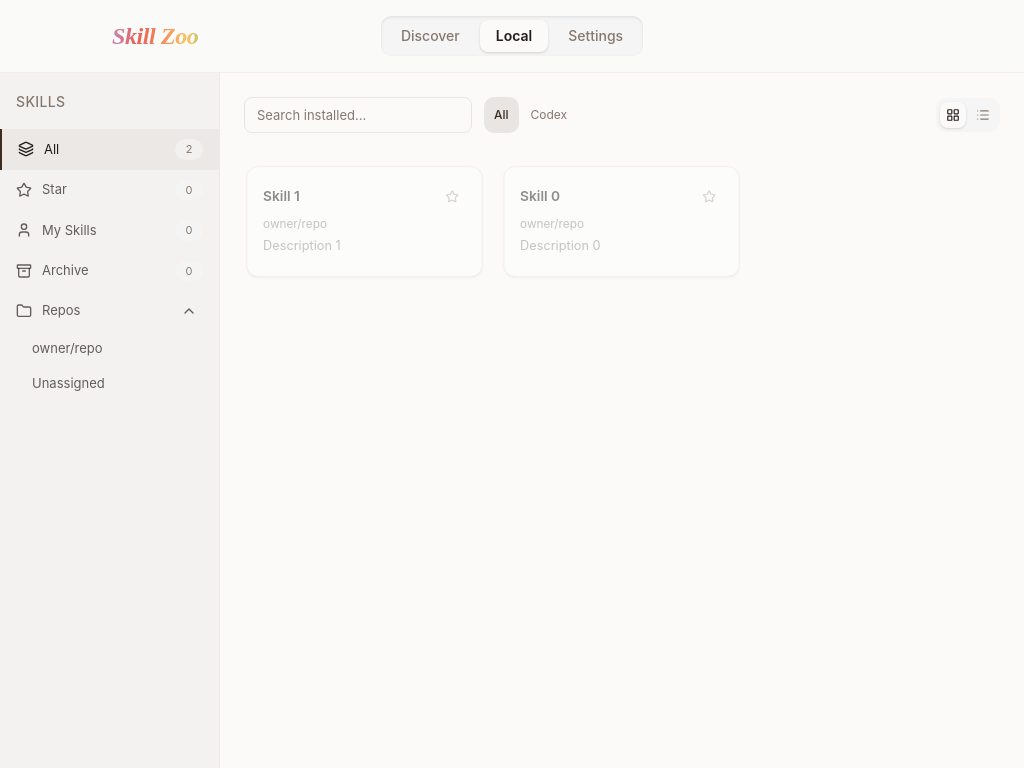
it: App local skill detail navigation › does not show a different skill as updating while an earlier update is pending
The image size is (1024, 768).
Click the button "Skill 0" at (540, 196), box [520, 188, 560, 205]
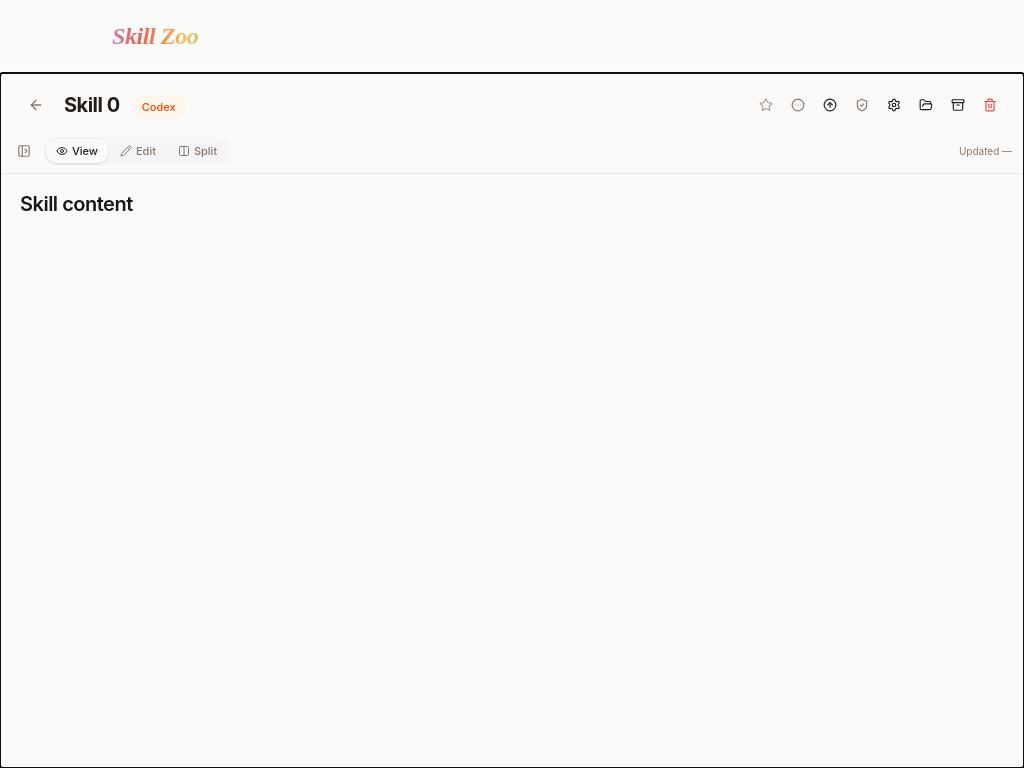
Now the heading "Skill content" is shown, box [20, 192, 133, 216]
Click the button titled "Update from Git" at (830, 105), box [816, 91, 844, 119]
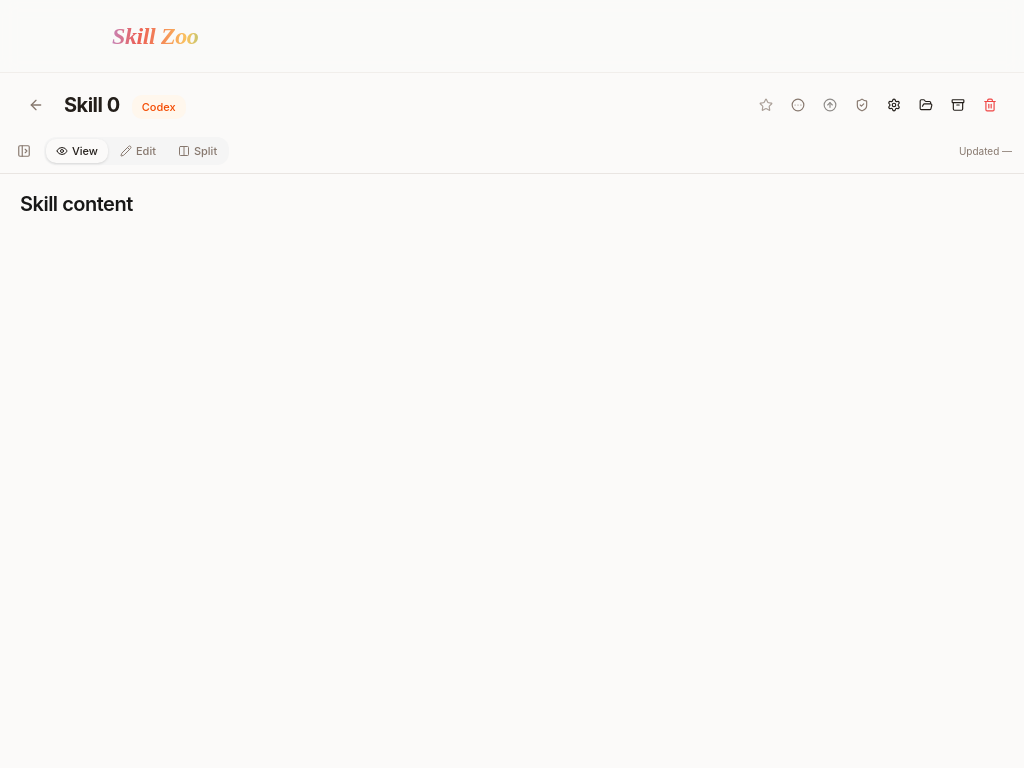
Now the button titled "Updating..." is shown, box [816, 91, 844, 119]
Click the button titled "Back" at (36, 105), box [20, 89, 52, 121]
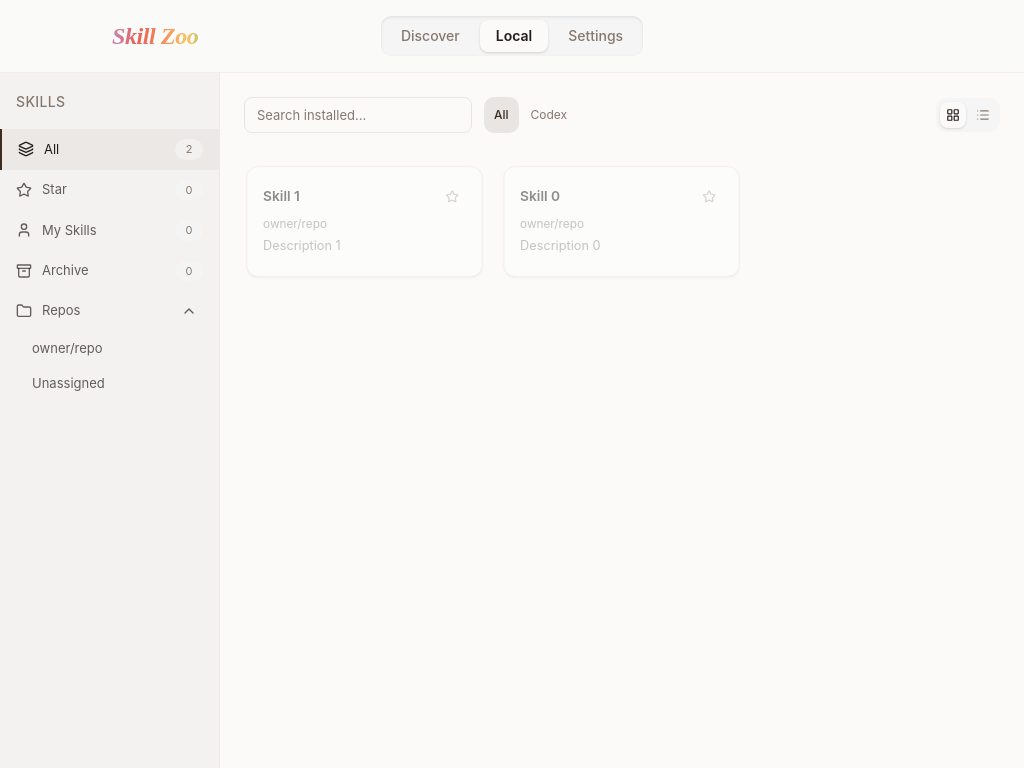
Click the button "Skill 1" at (282, 196), box [263, 188, 300, 205]
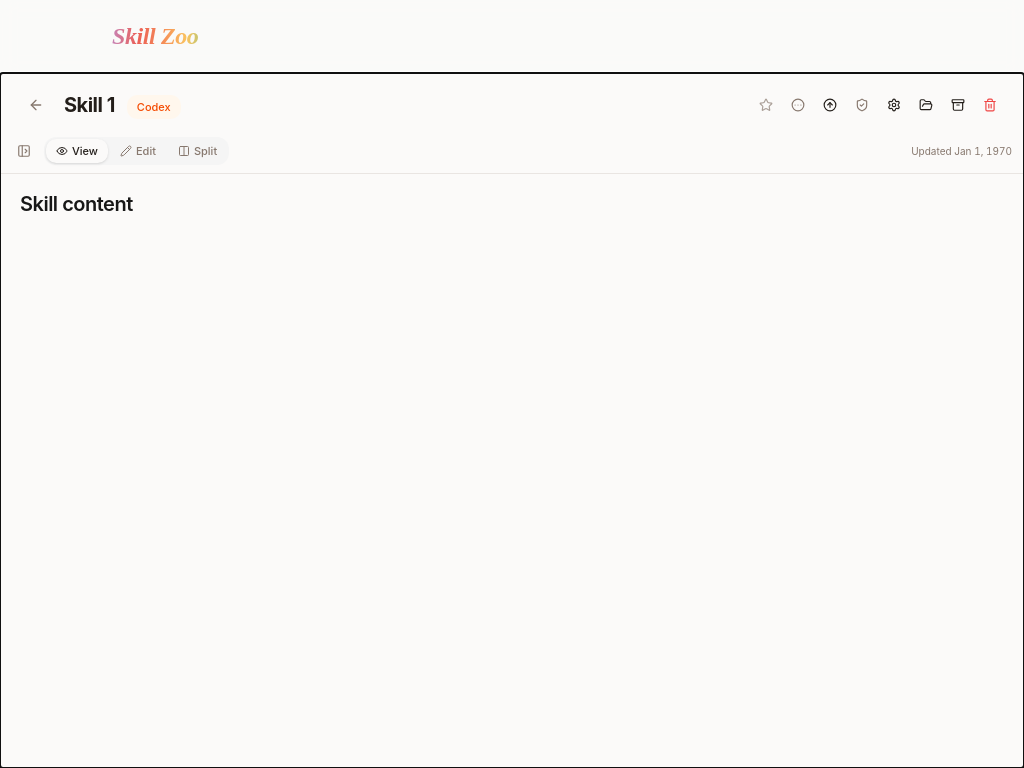
Now the heading "Skill 1" is shown, box [64, 92, 115, 118]
Now the button titled "Update from Git" is shown, box [816, 91, 844, 119]
